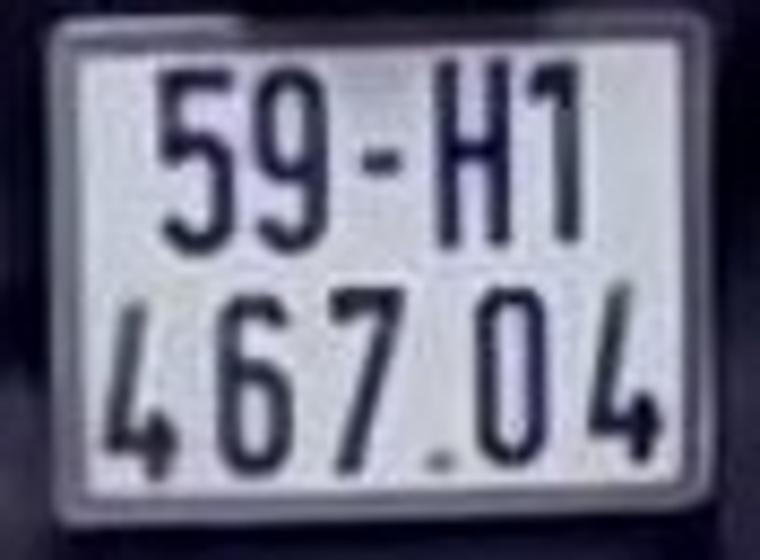-: (357, 145, 411, 178)
.: (426, 441, 466, 485)
0: (469, 275, 558, 470)
1: (529, 49, 590, 251)
4: (93, 304, 182, 484), (579, 278, 665, 460)
5: (152, 65, 244, 257)
6: (206, 292, 295, 474)
7: (324, 281, 413, 479)
9: (250, 60, 332, 256)
H: (427, 47, 522, 253)
